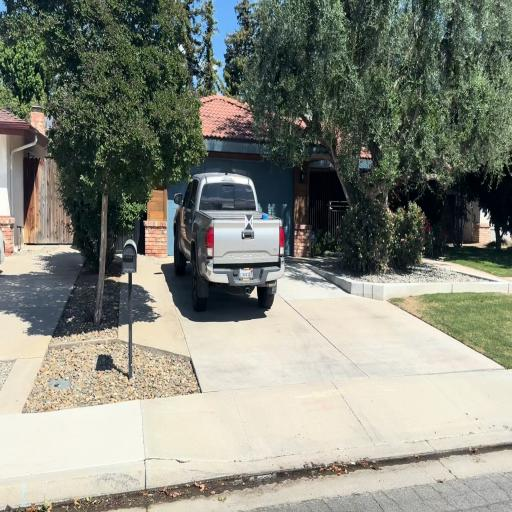target1: (245, 214, 253, 230)
